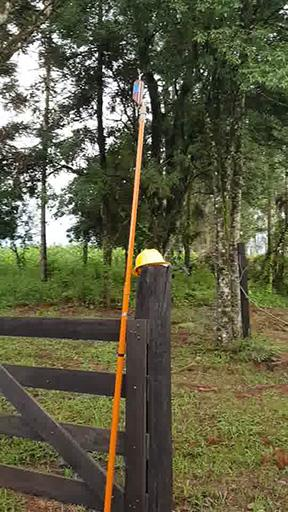Detector_Tensao_Contato: (130, 68, 145, 108)
Vara_Manobra: (102, 109, 147, 512)
